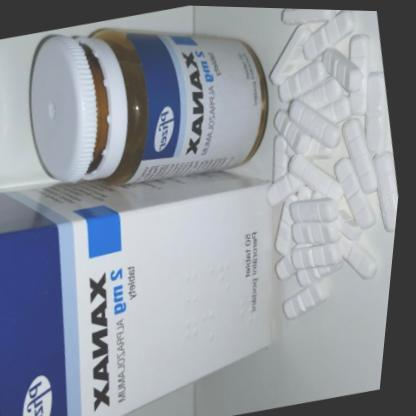jar: (30, 29, 268, 183)
